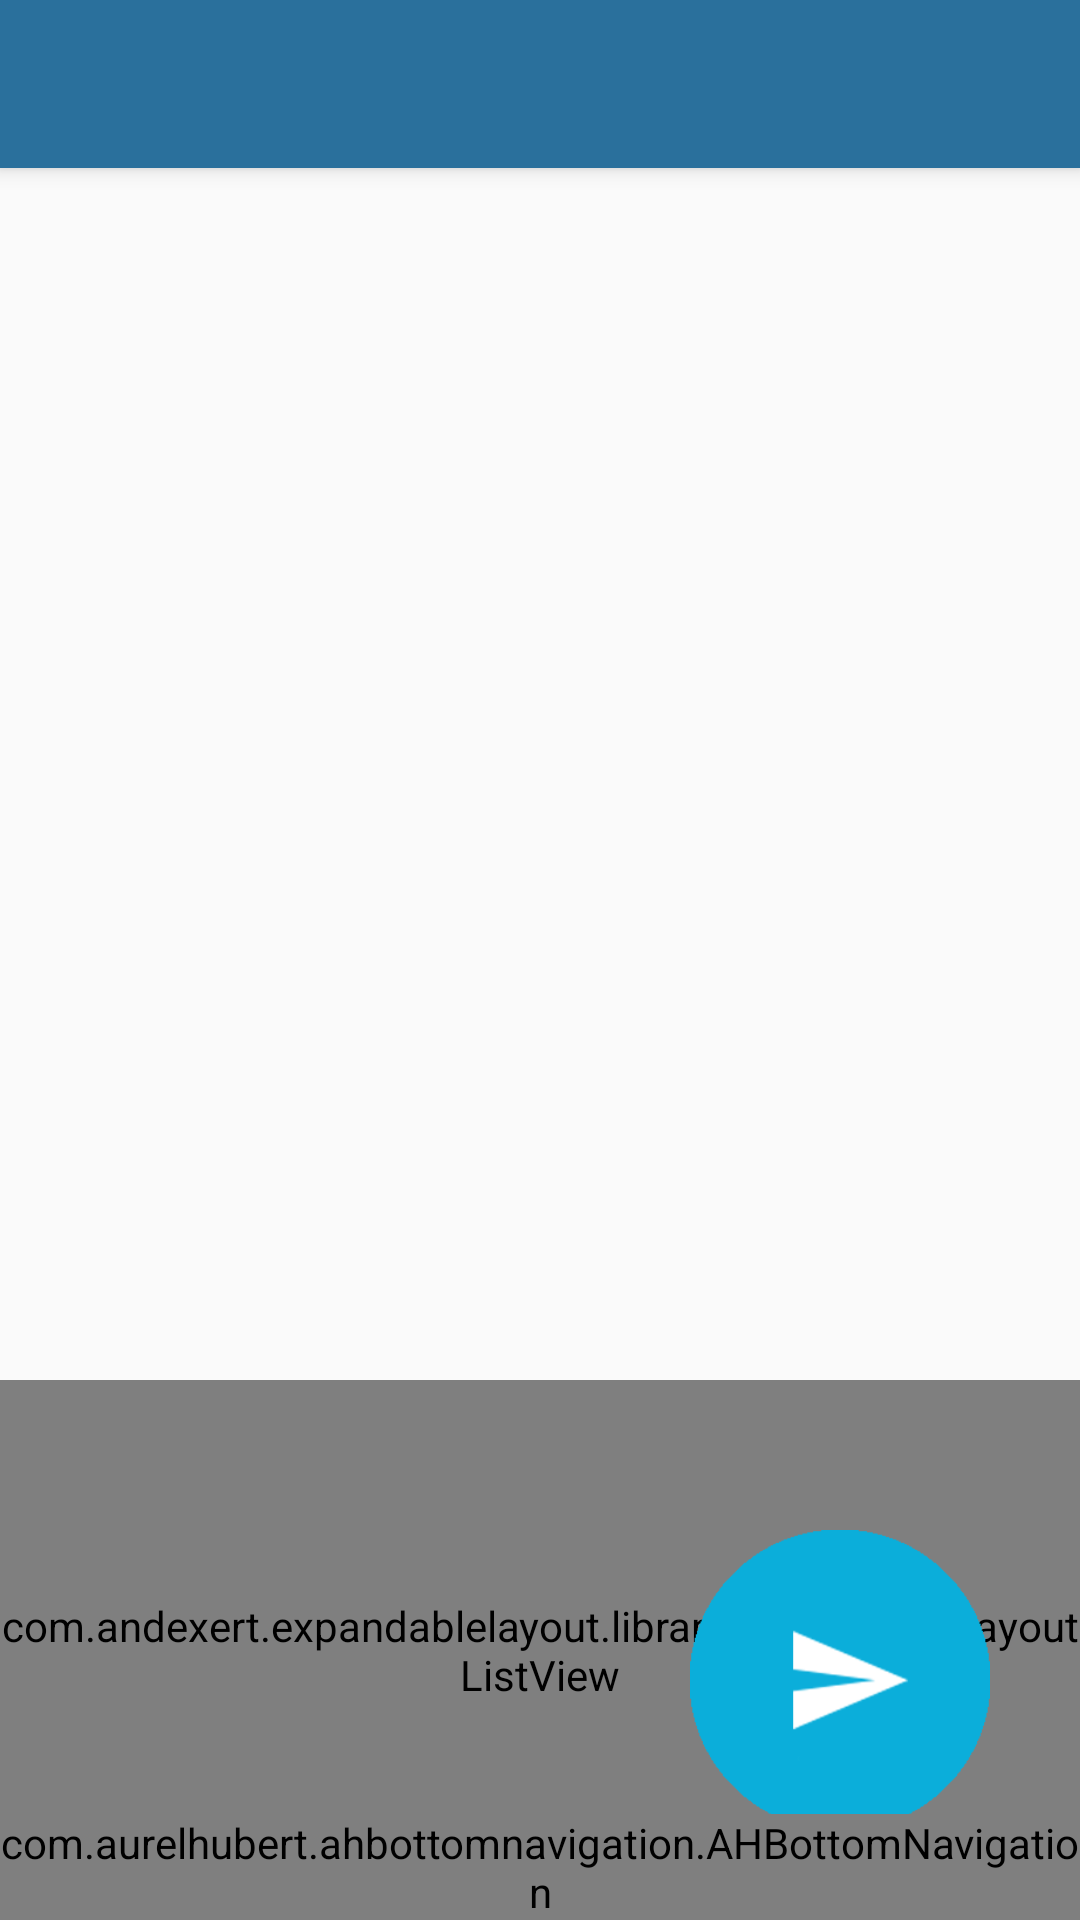

Where icons sit on this 1080px x 1920px app screen, as (x1, y1, x2, y2):
send mail: (690, 1530, 990, 1830)
